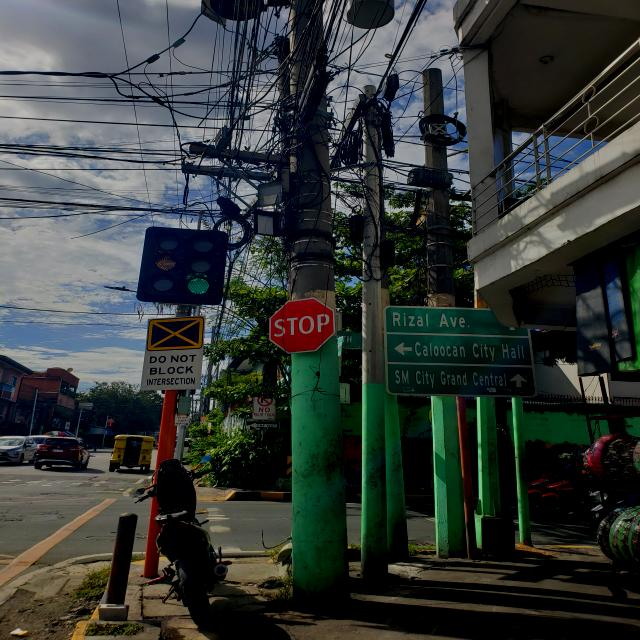stop-sign: (269, 297, 336, 354)
